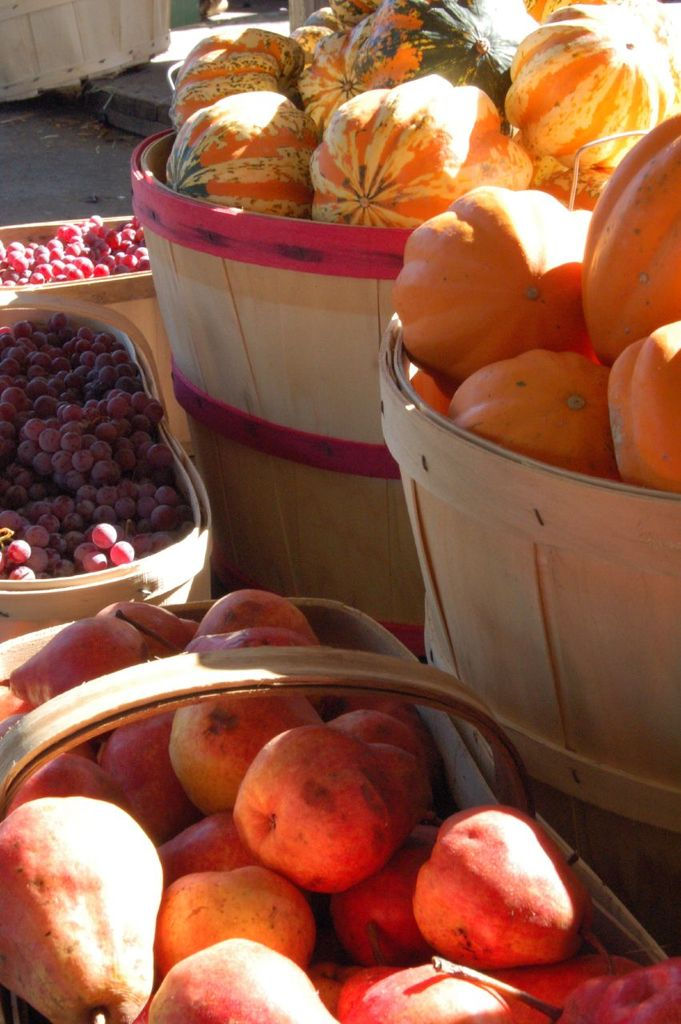Apple: (230, 727, 416, 905)
